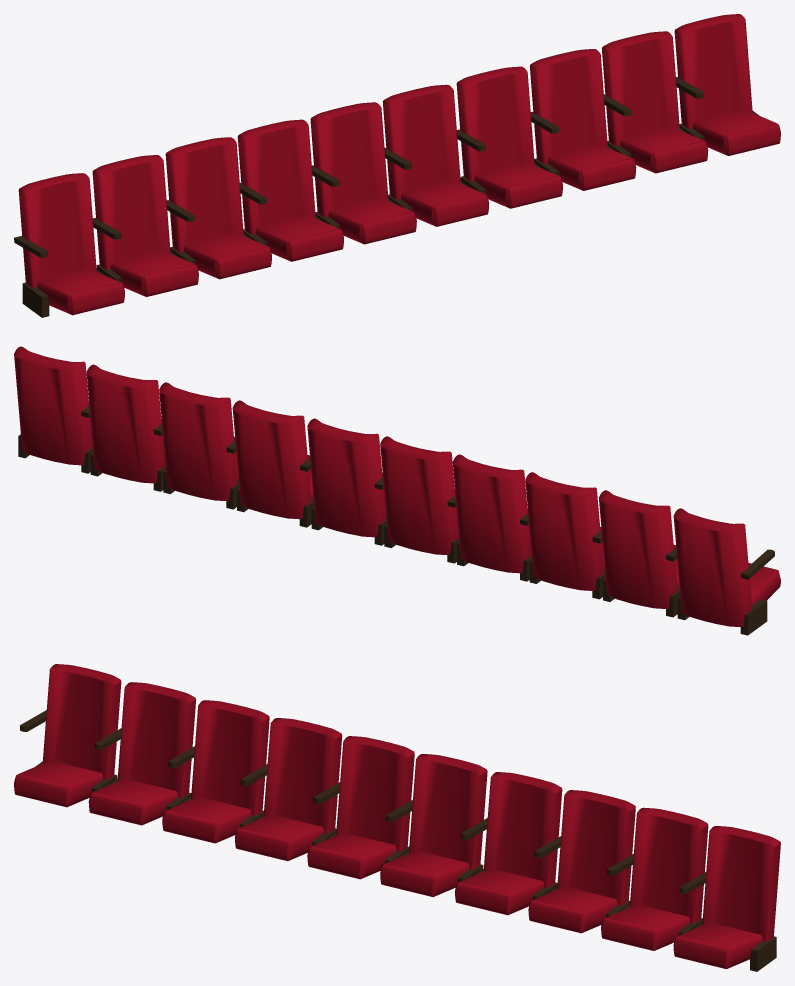
File: seat10.dae
3 views of the same model, one above another, from view 1: azimuth 30°, elevation 25°; view 2: azimuth 150°, elevation 25°; view 3: azimuth 330°, elevation 25° (orthographic).
Parts seen in each view (by area): view 1: group_3 (×10), group_4 (×10), group_1; view 2: group_3 (×10), group_4, group_1; view 3: group_3 (×10), group_4 (×10), group_8.
Boxes of the visible parts, <box> form: group_3 (×10): <box>18,14,752,287</box>; group_4 (×10): <box>36,109,780,315</box>; group_1: <box>22,282,49,317</box>; group_3 (×10): <box>14,346,752,627</box>; group_4: <box>748,563,780,605</box>; group_1: <box>740,599,767,635</box>; group_3 (×10): <box>42,664,780,941</box>; group_4 (×10): <box>14,760,762,969</box>; group_8: <box>750,936,776,971</box>.
Size of the model in its own units: 207 by 26.57 by 30.17.
